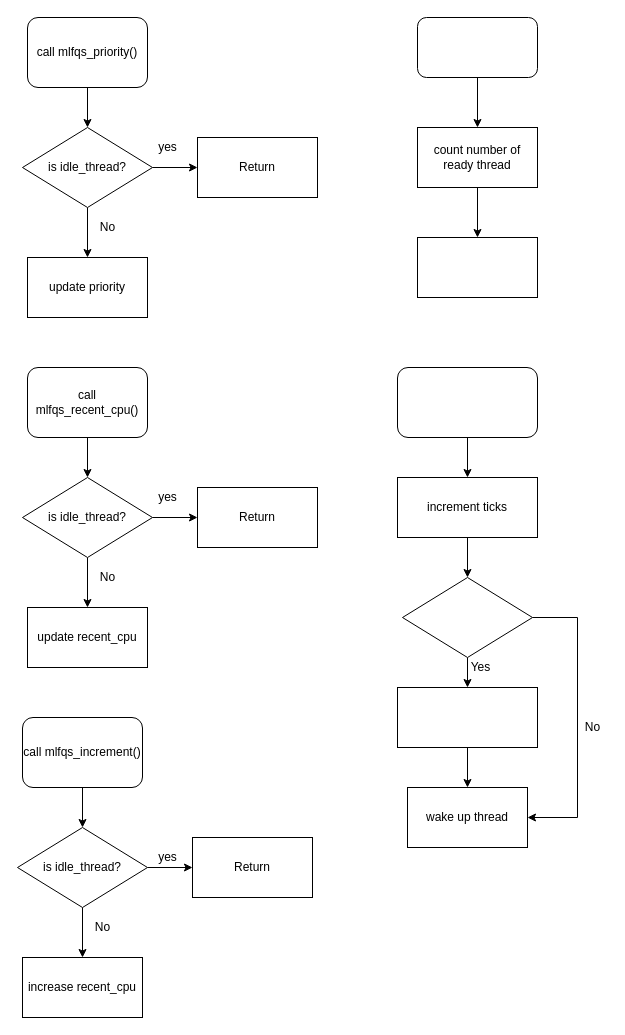
Some shapes in this 625 by 1035 pixel diagram are drawn without their labels. The shapes that lost their labels are listed below. From the top down, each one's box as (x1, y1, x2, y2) in pixels, then its label:
(416, 16, 538, 78): call mlfqs_load_avg()
(416, 236, 538, 298): update load_avg
(396, 366, 538, 438): call timer_interrupt() for every ticks
(402, 576, 532, 658): is mlfqs?
(396, 686, 538, 748): update priority, recent_cpu, load_avg
